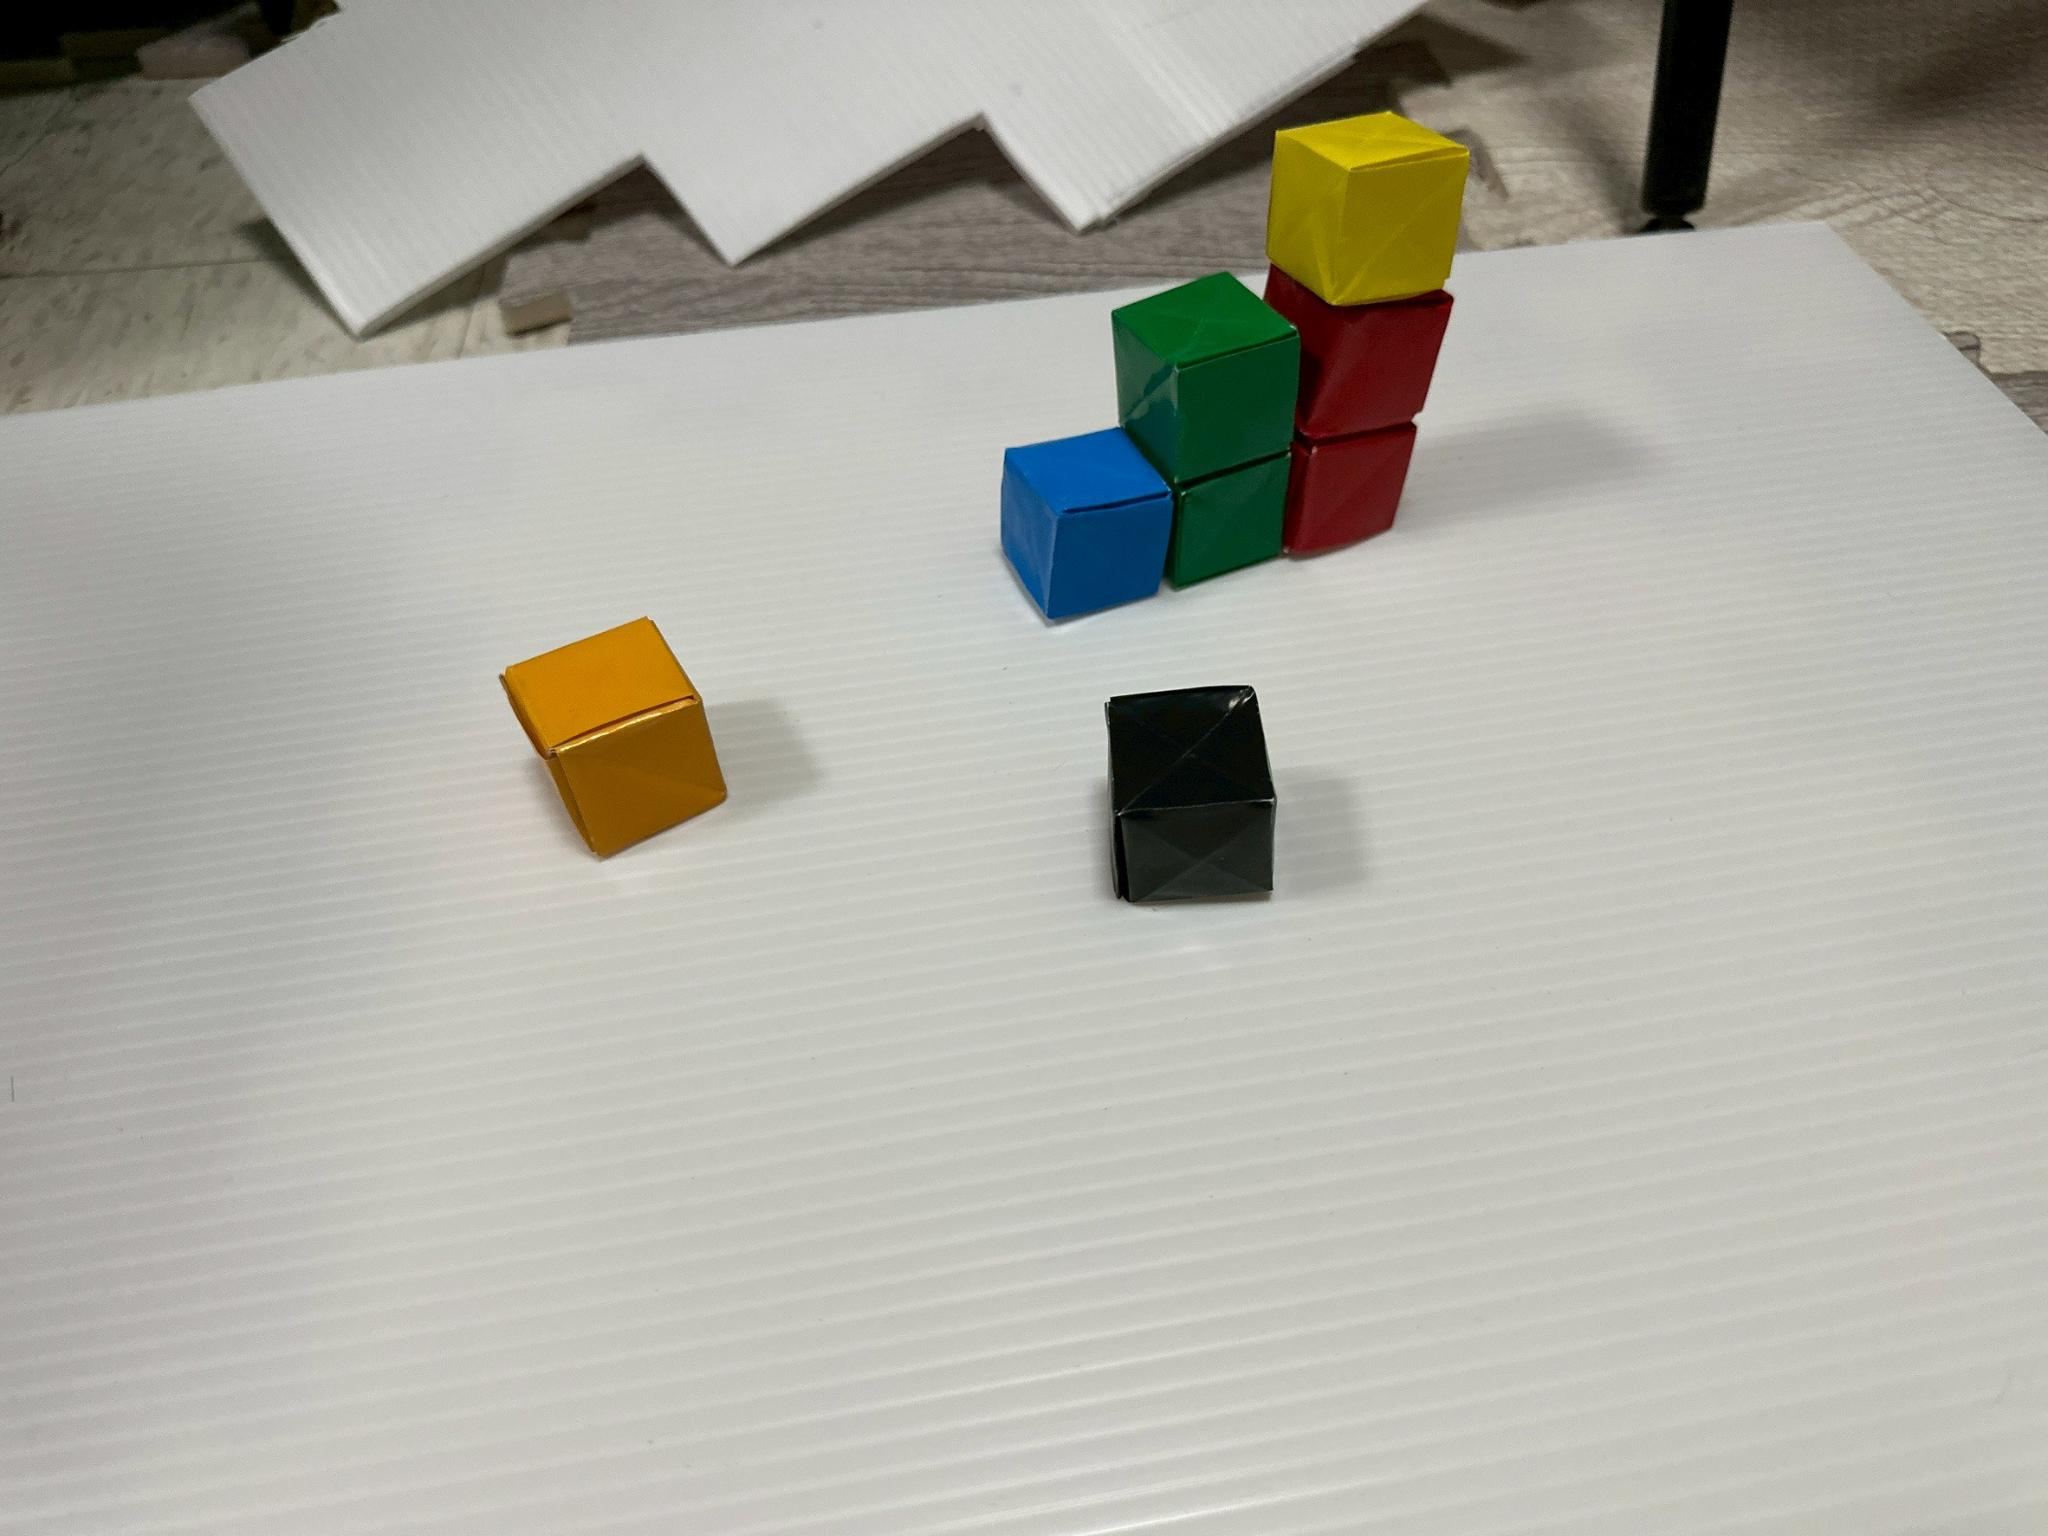cube: (502, 620, 726, 858), (1113, 273, 1300, 486), (1266, 111, 1469, 307), (1108, 686, 1274, 904), (1000, 429, 1172, 620), (1264, 266, 1451, 440), (1284, 423, 1416, 555), (1166, 447, 1288, 589)
